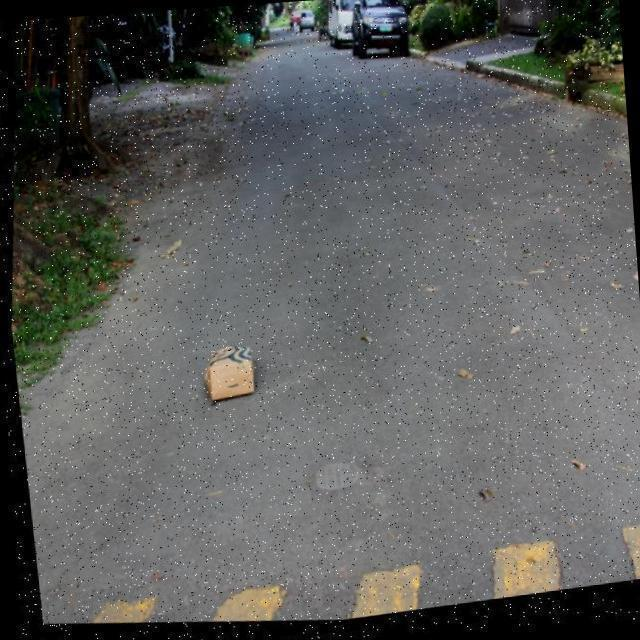Paper_Bag: (194, 341, 256, 408)
